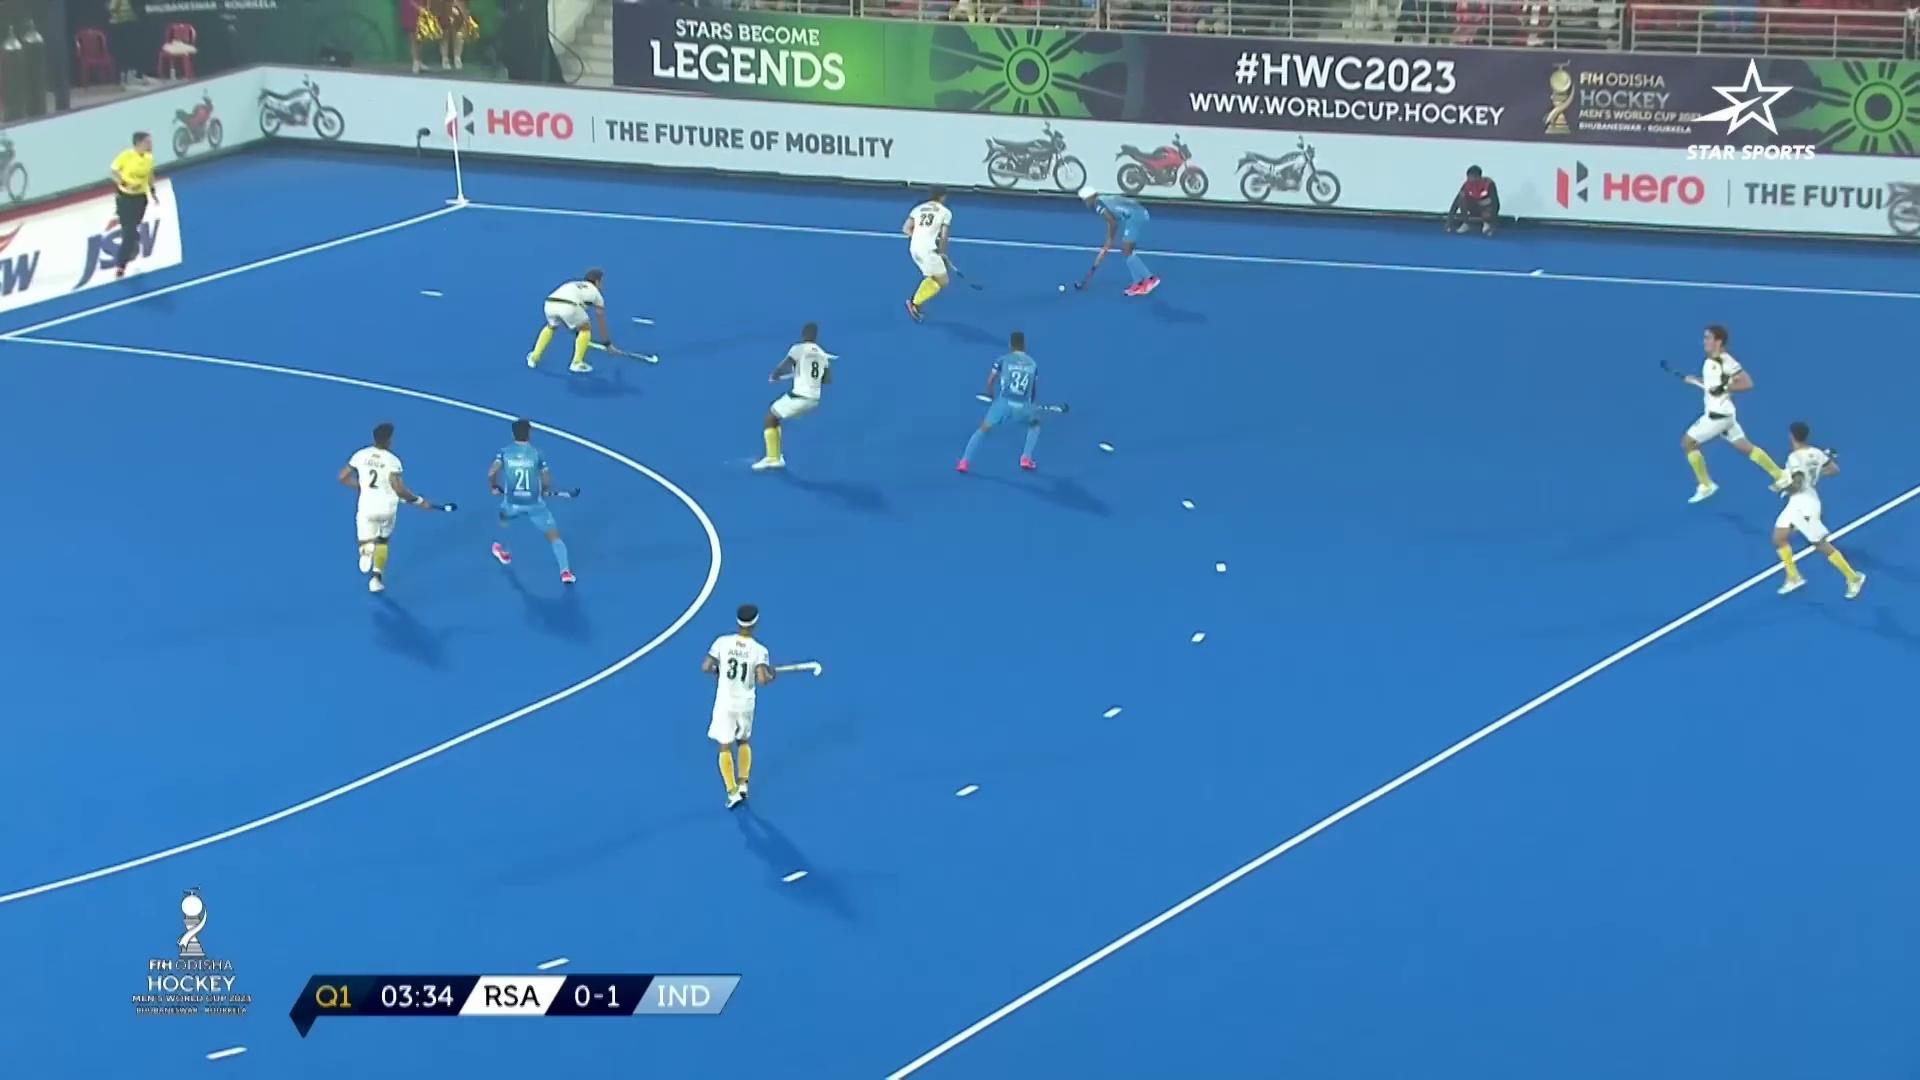ball: (1054, 281, 1075, 302)
